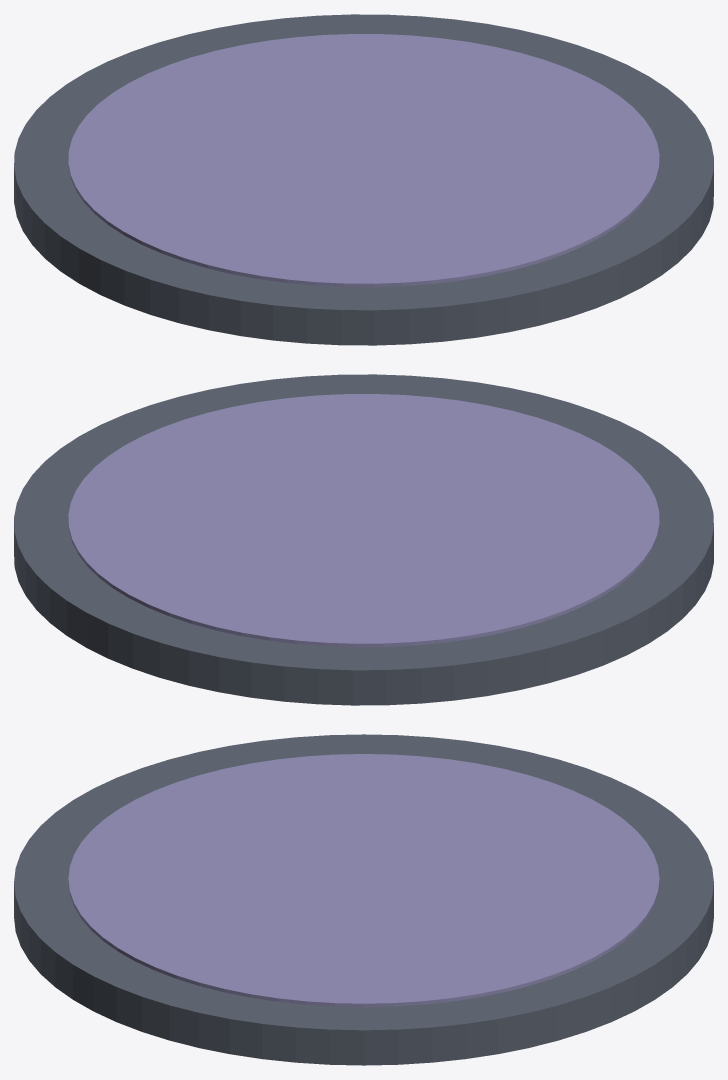
File: wst-wafer-holder-manual.glb
3 views of the same model, one above another, from view 1: azimuth 30°, elevation 25°; view 2: azimuth 150°, elevation 25°; view 3: azimuth 270°, elevation 25° (orthographic).
Parts seen in each view (by area): view 1: wafer illustrative, black printed wafer holder; view 2: wafer illustrative, black printed wafer holder; view 3: wafer illustrative, black printed wafer holder.
Boxes of the visible parts, x1,y1,x2,y2 form: wafer illustrative: (68, 34, 659, 287); black printed wafer holder: (14, 14, 713, 345); wafer illustrative: (68, 394, 659, 647); black printed wafer holder: (14, 374, 713, 705); wafer illustrative: (68, 754, 659, 1007); black printed wafer holder: (14, 734, 713, 1065).
Bounding box in the file's own units: 0.18 × 0.011 × 0.18.
